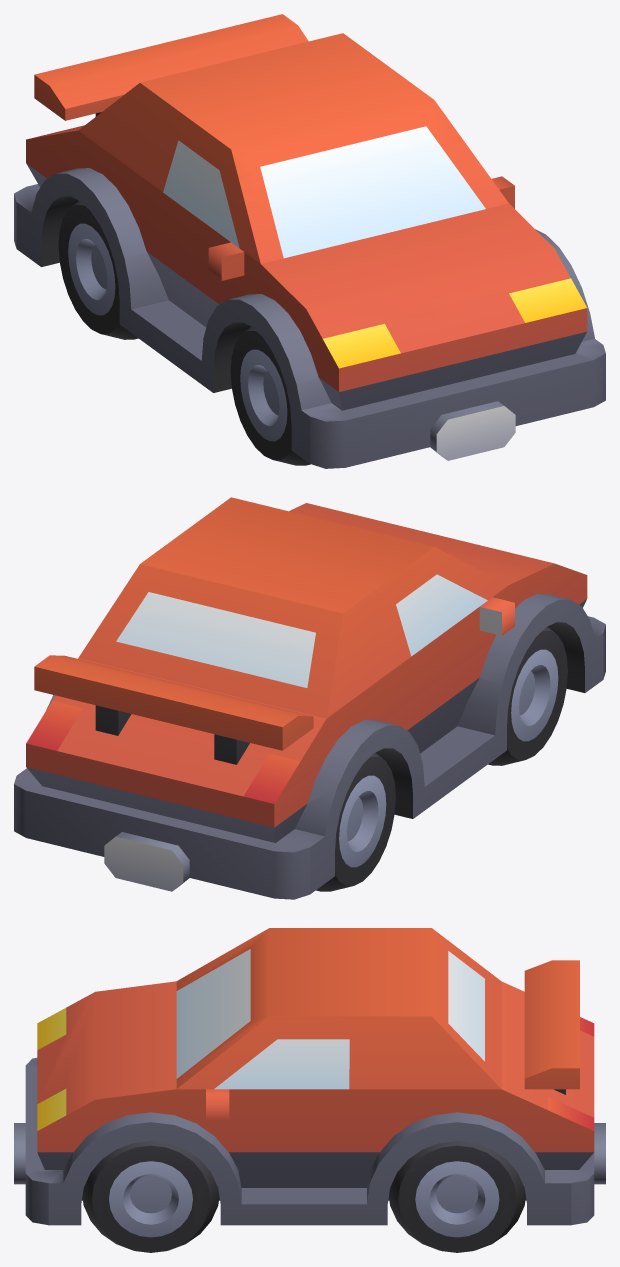
The model's file is sedanSports.glb.
3 renders of one model, top to bottom at view 1: azimuth 30°, elevation 25°; view 2: azimuth 150°, elevation 25°; view 3: azimuth 270°, elevation 25°, orthographic. The views are drawn at different scales.
Visible parts, largest first — view 1: body, spoiler, wheel-back-right, wheel-front-right; view 2: body, spoiler, wheel-back-right, wheel-front-right; view 3: body, wheel-back-left, wheel-front-left, spoiler.
Part boxes in pixels (<box>): body: <box>14,33,605,468</box>; spoiler: <box>34,14,308,120</box>; wheel-back-right: <box>58,200,138,339</box>; wheel-front-right: <box>230,326,310,465</box>; body: <box>14,497,605,899</box>; spoiler: <box>34,655,313,764</box>; wheel-back-right: <box>316,752,395,891</box>; wheel-front-right: <box>488,626,567,765</box>; body: <box>14,928,605,1225</box>; wheel-back-left: <box>389,1141,525,1252</box>; wheel-front-left: <box>82,1141,219,1252</box>; spoiler: <box>524,960,579,1094</box>.
Size of the model in its own units: 1.3 by 1.1 by 2.55.
1 material, 1 textured.
